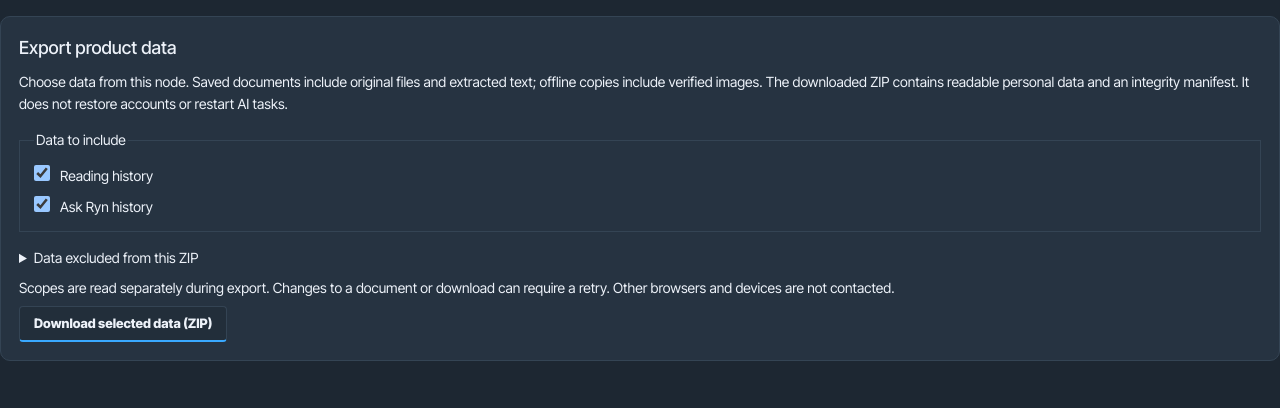
Scenario: keeps the selected scope after a source failure and offers retry without false success
Click the button "Download selected data (ZIP)": (123, 324) left=19, top=306, right=227, bottom=342
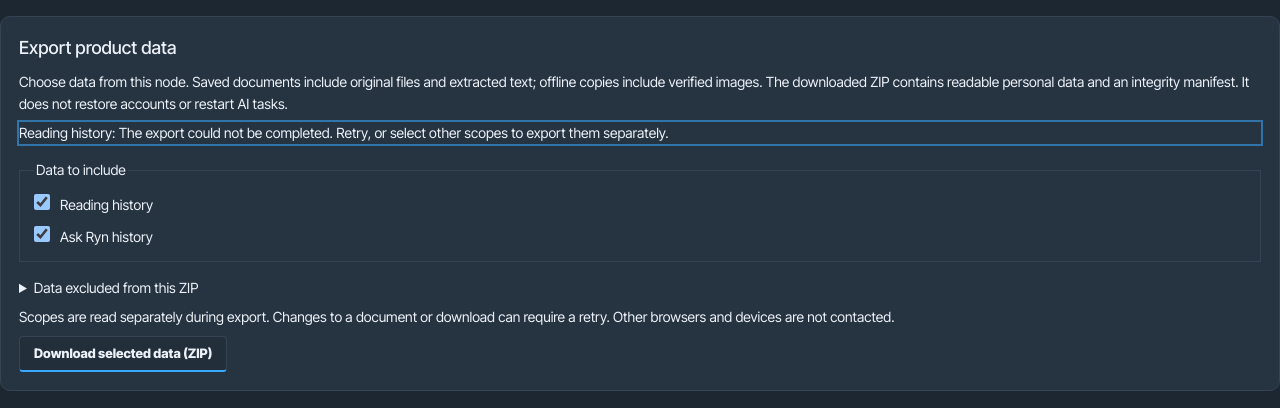
expect the checkbox labelled "Reading history" is checked: met, box left=34, top=194, right=50, bottom=210
expect the message shows "Reading history: The export could not be completed": met, box left=19, top=124, right=669, bottom=142
